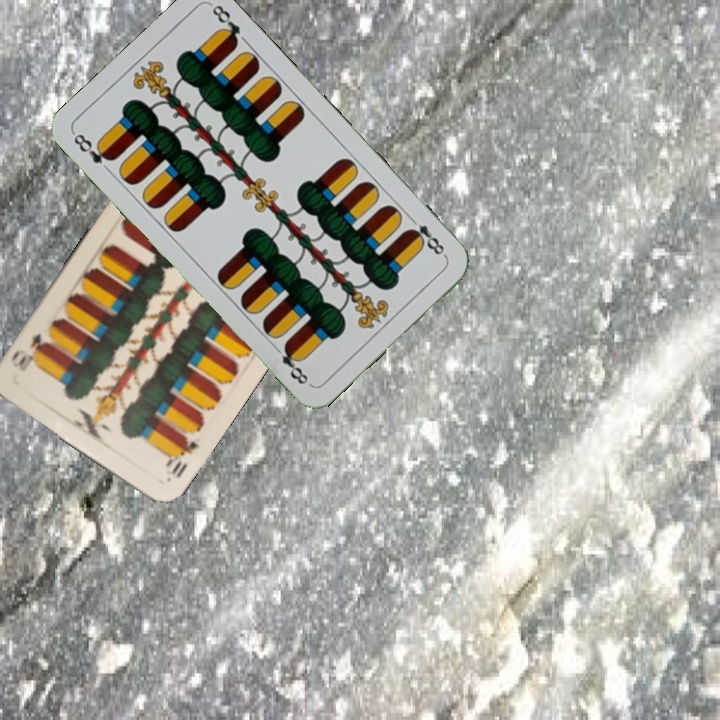E10: (161, 432, 203, 481)
E8: (403, 212, 449, 260), (69, 129, 117, 167)
